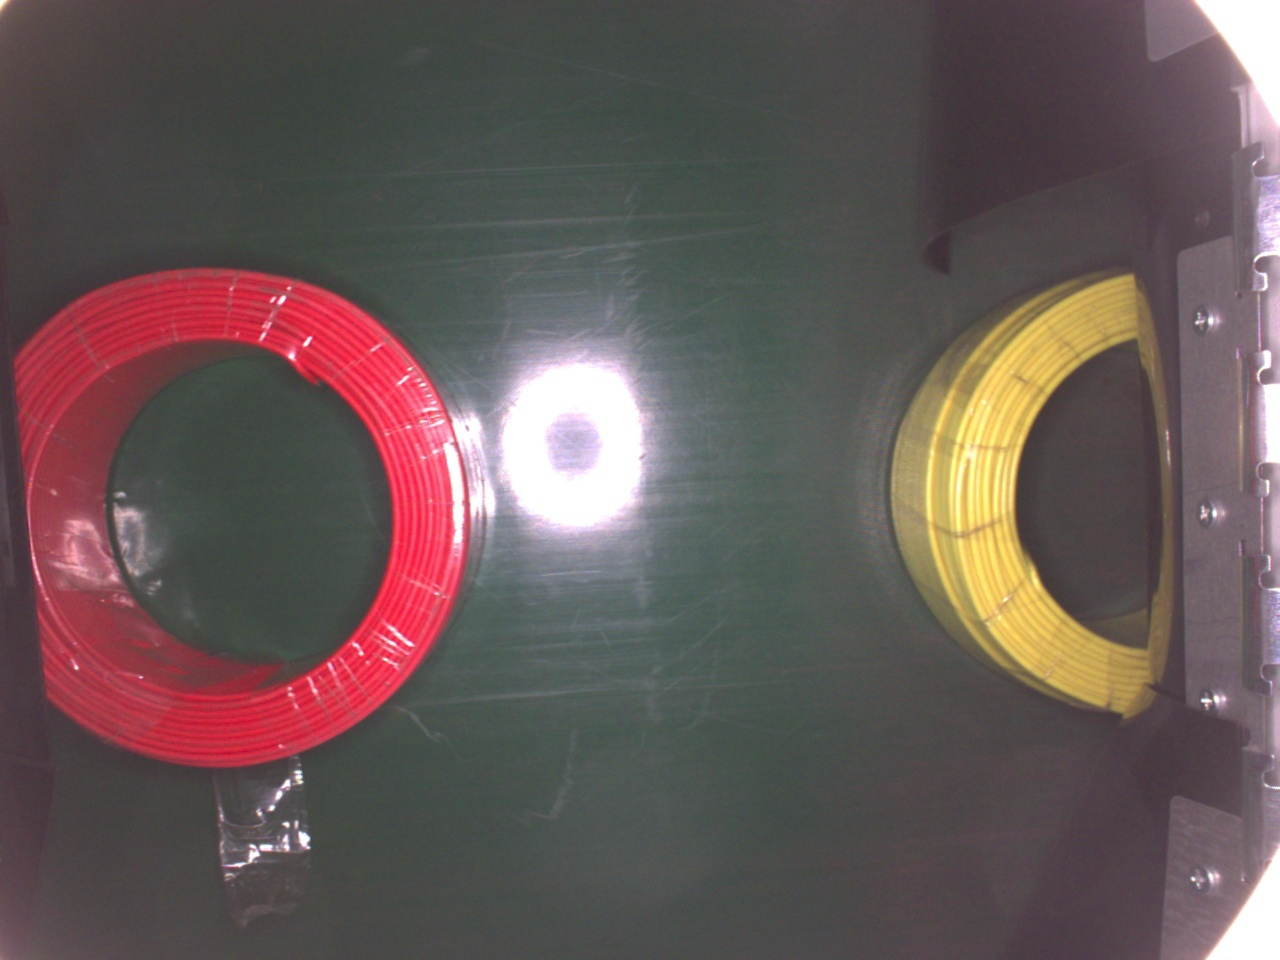red: (9, 264, 483, 772)
yellow: (886, 269, 1170, 719)
